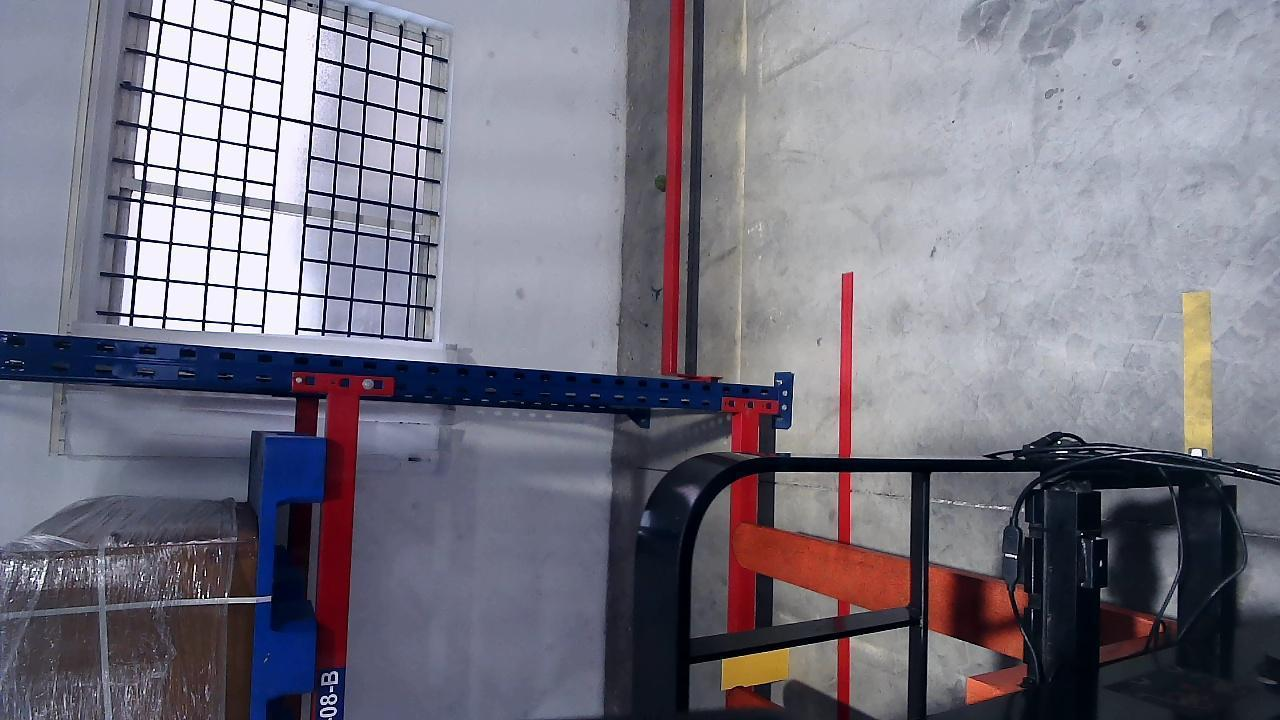red_line: (838, 271, 855, 705)
yellow_line: (1182, 291, 1214, 455)
